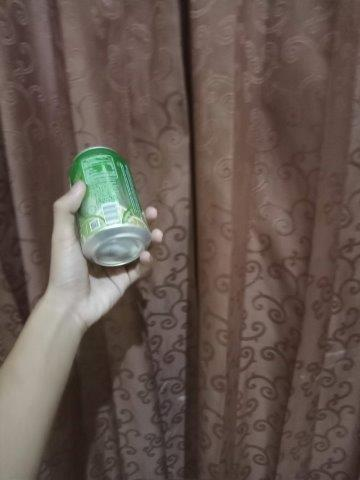kaleng: (68, 146, 152, 268)
